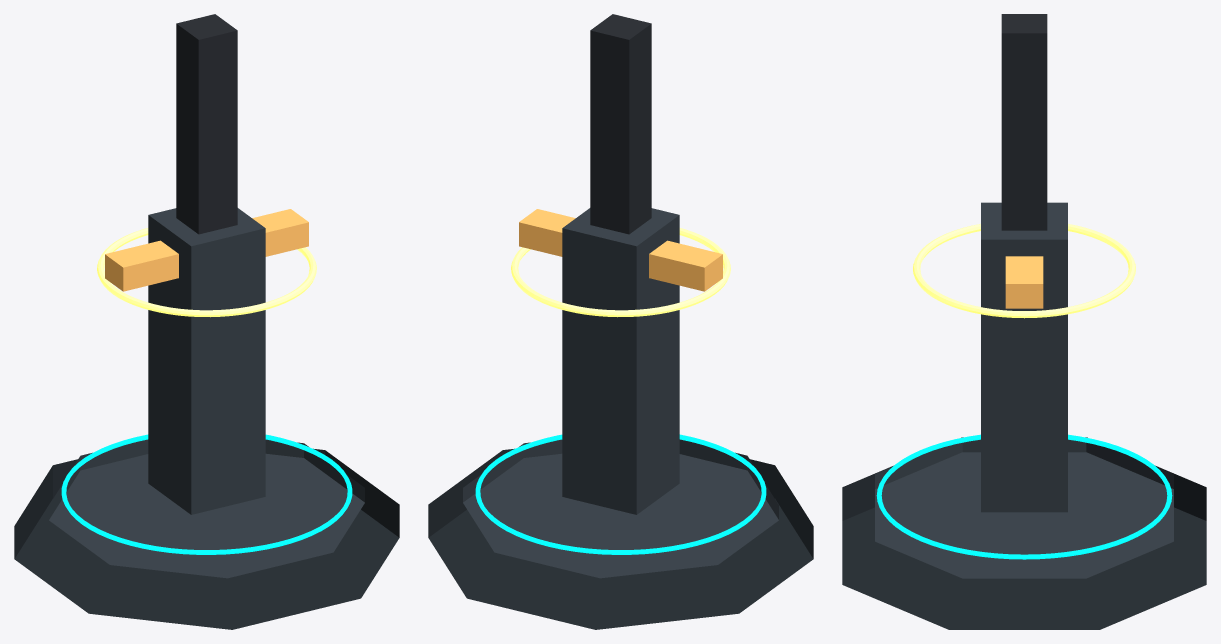
Rendered from district_command.glb.
3 views of the same model, side by side, from view 1: azimuth 30°, elevation 25°; view 2: azimuth 150°, elevation 25°; view 3: azimuth 270°, elevation 25° (orthographic).
Parts seen in each view (by area): view 1: district_command_central_citadel, district_command_upper_plate, district_command_octagonal_base, district_command_upper_spire, district_command_crossbar, district_command_base_cyan_circuit, district_command_authority_ring; view 2: district_command_central_citadel, district_command_upper_plate, district_command_octagonal_base, district_command_upper_spire, district_command_crossbar, district_command_base_cyan_circuit, district_command_authority_ring; view 3: district_command_upper_plate, district_command_octagonal_base, district_command_central_citadel, district_command_upper_spire, district_command_authority_ring, district_command_base_cyan_circuit, district_command_crossbar.
Part boxes in pixels (left/top/right/bottom): district_command_central_citadel: left=148, top=208, right=265, bottom=514; district_command_upper_plate: left=49, top=439, right=364, bottom=578; district_command_octagonal_base: left=14, top=448, right=399, bottom=629; district_command_upper_spire: left=176, top=14, right=237, bottom=234; district_command_crossbar: left=105, top=209, right=308, bottom=291; district_command_base_cyan_circuit: left=61, top=434, right=352, bottom=554; district_command_authority_ring: left=97, top=228, right=316, bottom=317; district_command_central_citadel: left=562, top=208, right=679, bottom=514; district_command_upper_plate: left=463, top=439, right=778, bottom=578; district_command_octagonal_base: left=428, top=448, right=813, bottom=629; district_command_upper_spire: left=590, top=14, right=651, bottom=234; district_command_crossbar: left=519, top=209, right=722, bottom=291; district_command_base_cyan_circuit: left=475, top=434, right=766, bottom=554; district_command_authority_ring: left=511, top=228, right=730, bottom=317; district_command_upper_plate: left=875, top=437, right=1173, bottom=578; district_command_octagonal_base: left=842, top=465, right=1206, bottom=629; district_command_central_citadel: left=981, top=202, right=1067, bottom=512; district_command_upper_spire: left=1001, top=14, right=1047, bottom=230; district_command_authority_ring: left=913, top=224, right=1135, bottom=318; district_command_base_cyan_circuit: left=876, top=434, right=1172, bottom=559; district_command_crossbar: left=1005, top=256, right=1043, bottom=308.
Size of the model in its own units: 1.76 by 2.82 by 1.76.
